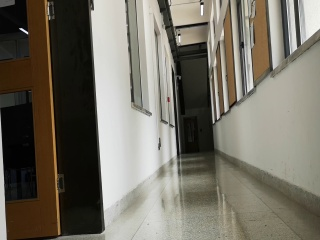room: (2, 1, 109, 237)
